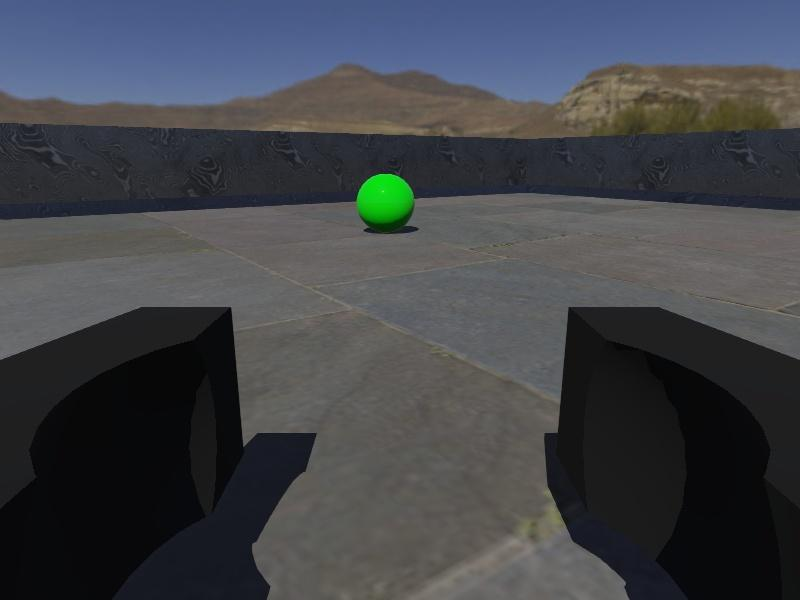green ball: (355, 172, 415, 232)
